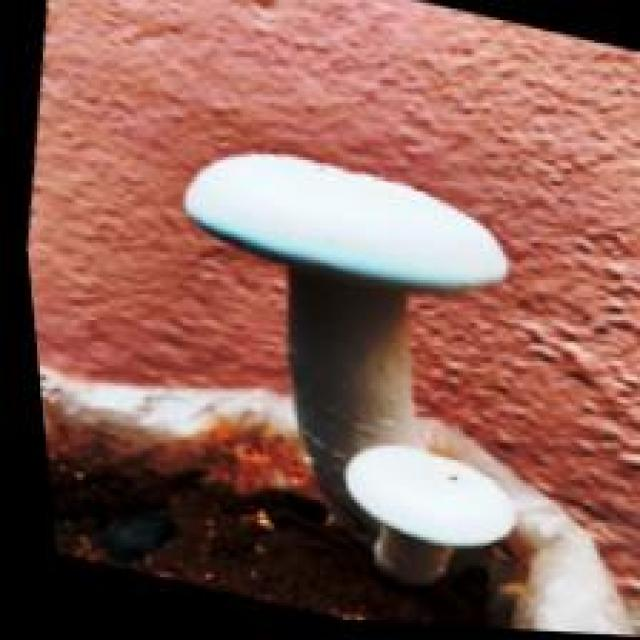field-mushroom: (183, 146, 517, 560)
